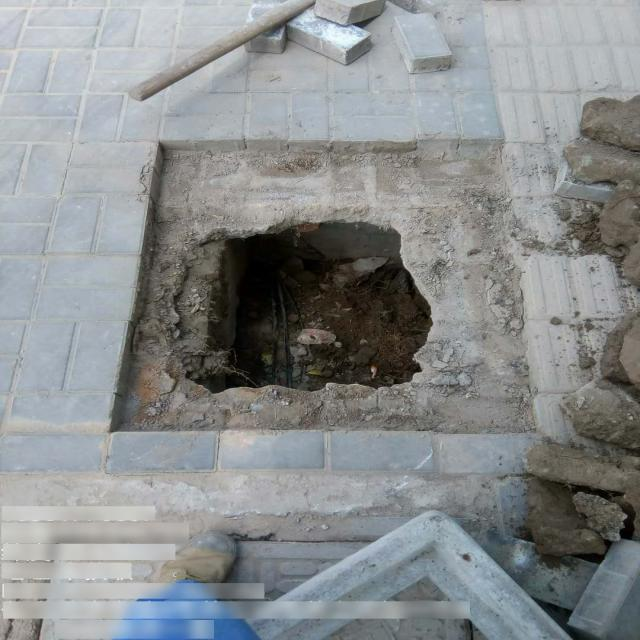Uncovered: (109, 137, 540, 431)
